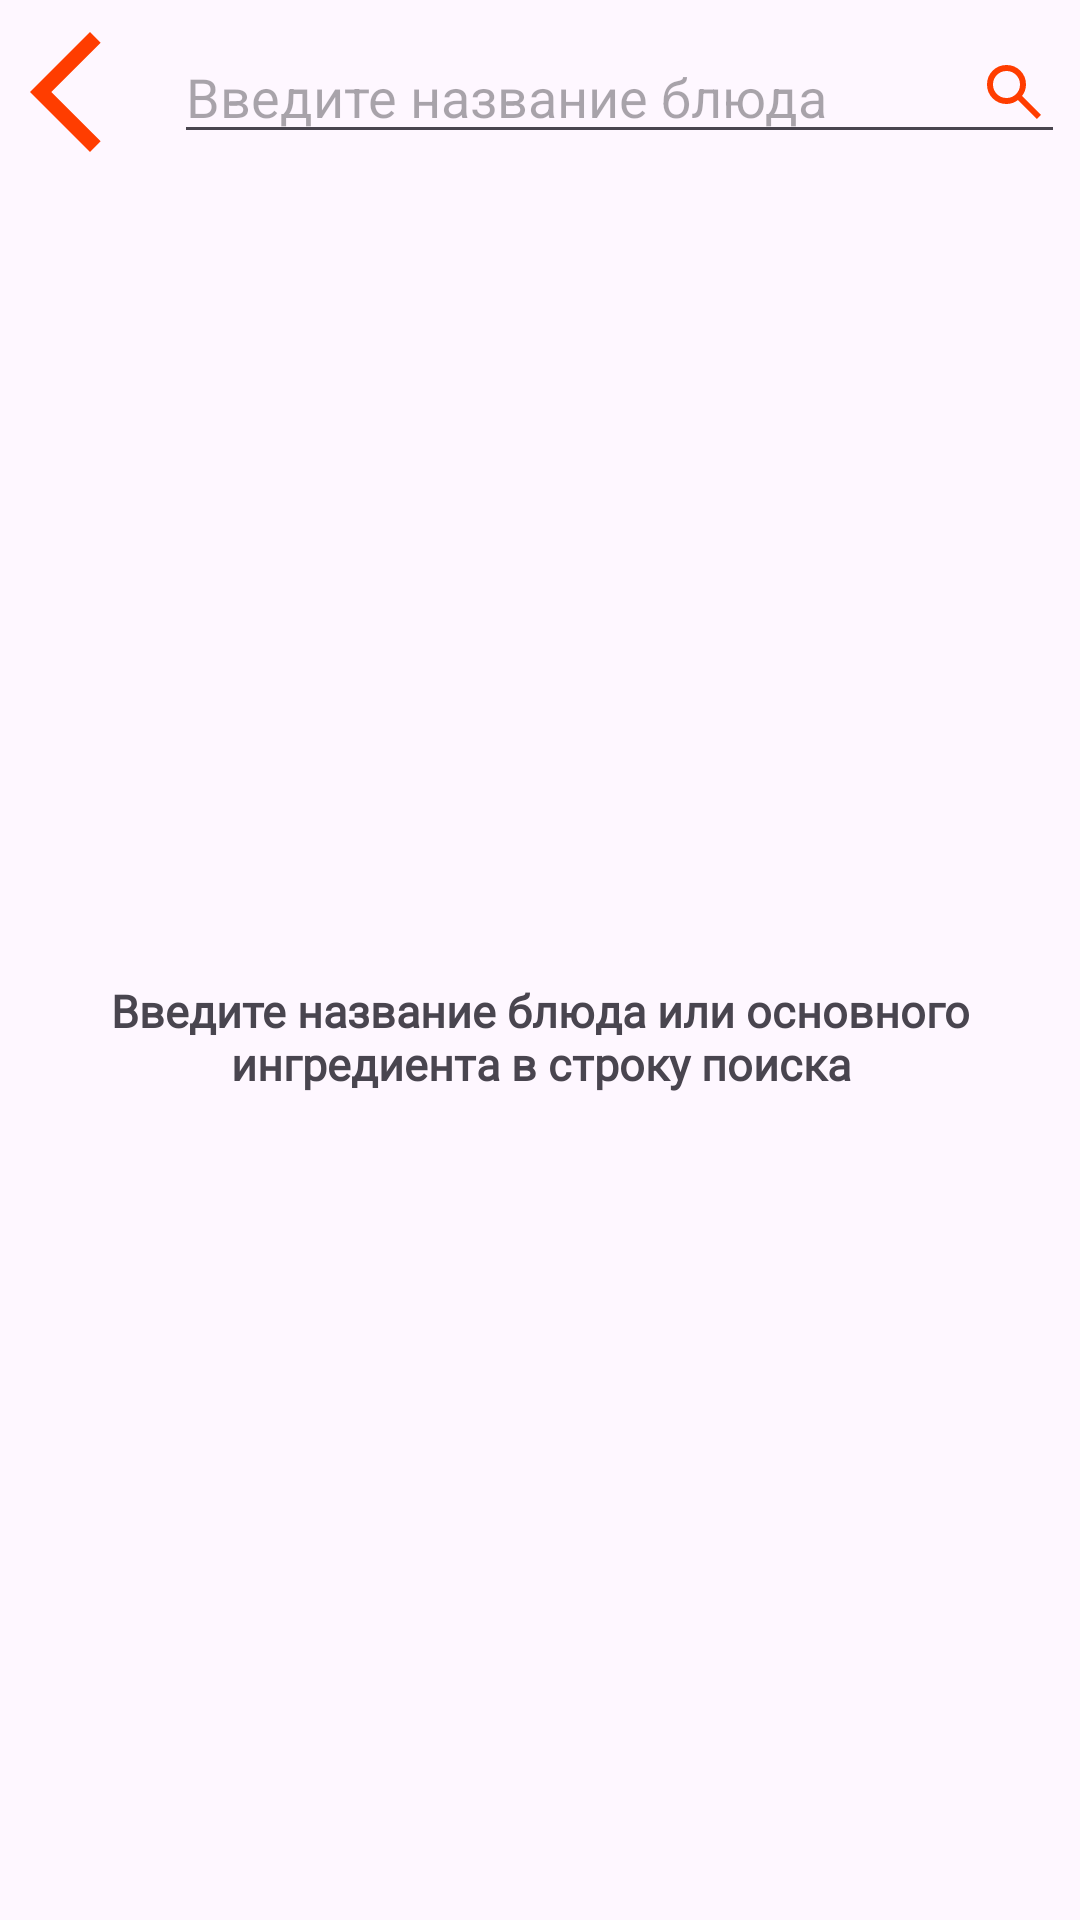

Named icons in this screenshot (1080w x 1920h) and their centers, (x,y):
arrow back: (65,92)
search: (1014,92)
